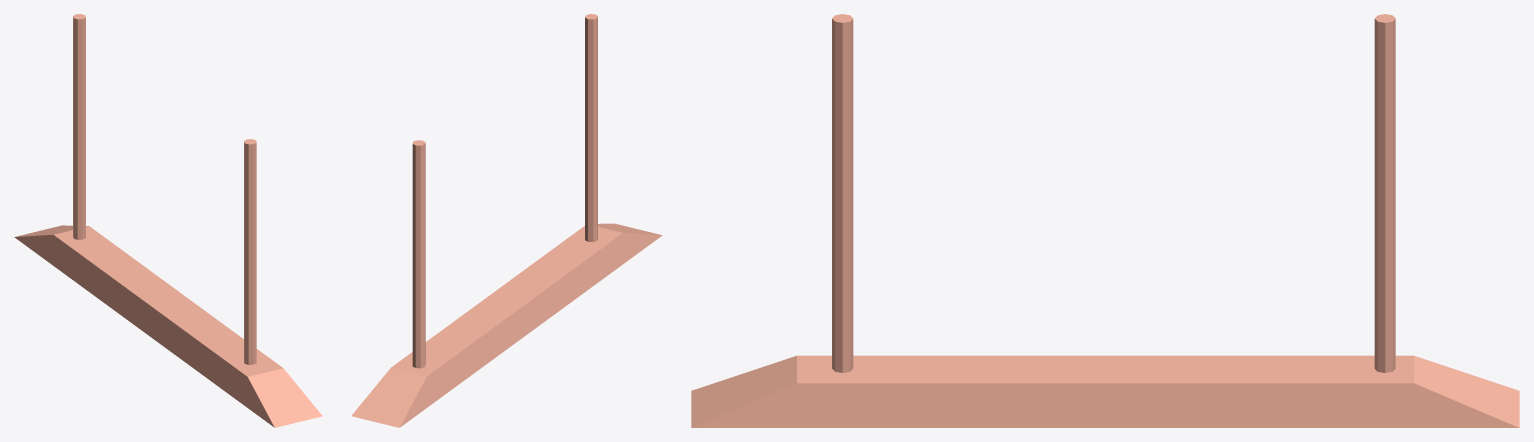
Rendered from hanginglight.fbx.
3 renders of one model, left to right at view 1: azimuth 30°, elevation 25°; view 2: azimuth 150°, elevation 25°; view 3: azimuth 270°, elevation 25°, orthographic. The views are drawn at different scales.
Visible parts, largest first — view 1: hanginglight; view 2: hanginglight; view 3: hanginglight.
Boxes of the visible parts, x1,y1,x2,y2 form: hanginglight: [14, 14, 322, 427]; hanginglight: [351, 14, 662, 427]; hanginglight: [691, 14, 1519, 427].
Bounding box in the file's own units: 25.84 × 126 × 243.
